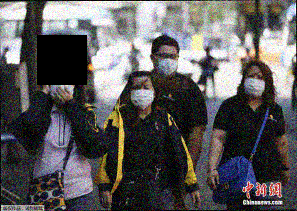with_mask: (48, 75, 76, 103), (129, 82, 154, 111), (242, 70, 267, 97), (154, 50, 178, 77)
